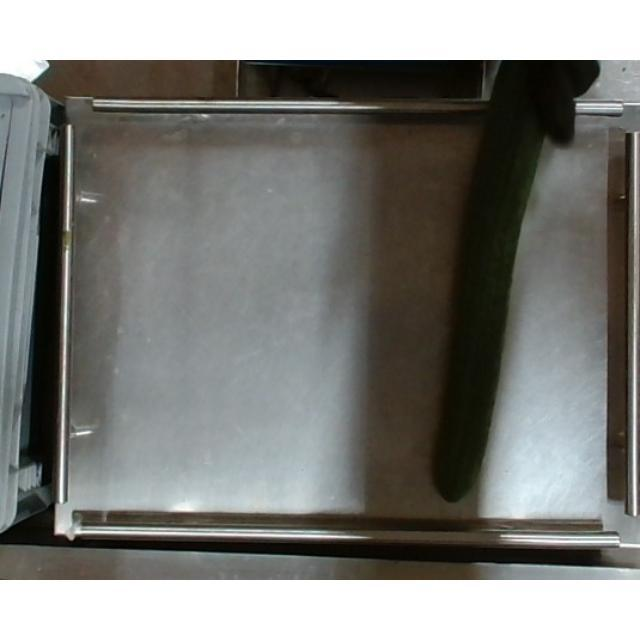cucumber: (430, 98, 550, 502)
